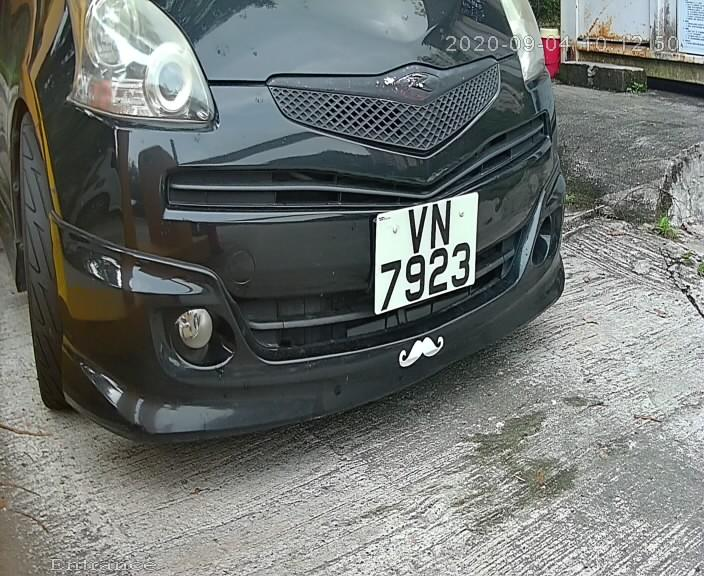License Plate: (371, 186, 481, 325)
